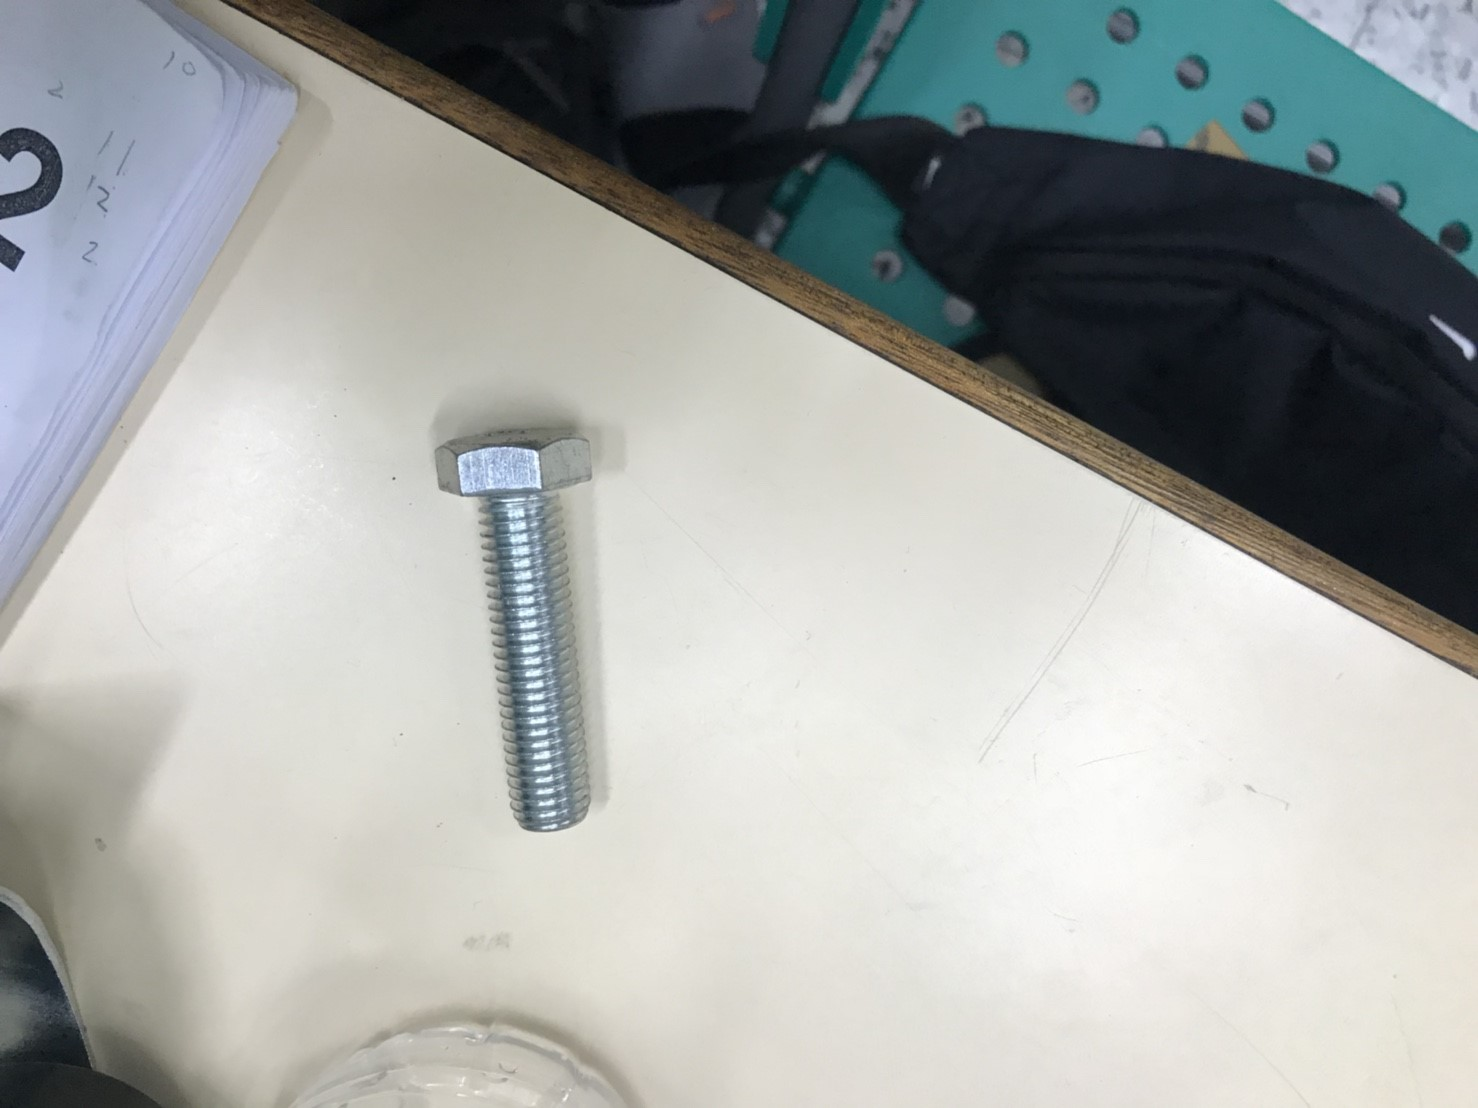screw: (427, 416, 621, 836)
